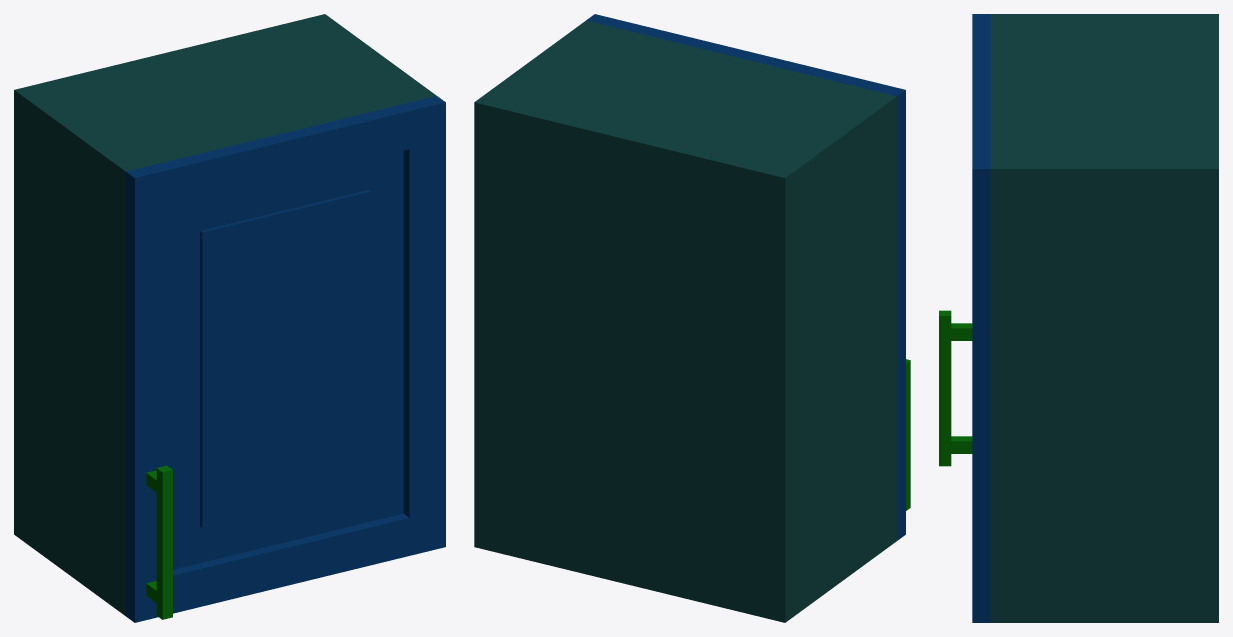
Rendered from CustomMeshCollision_Kitchen_Furniture_Cabinet.fbx.
3 renders of one model, left to right at view 1: azimuth 30°, elevation 25°; view 2: azimuth 150°, elevation 25°; view 3: azimuth 270°, elevation 25°, orthographic. The views are drawn at different scales.
Visible parts, largest first — view 1: Cabinet_MeshCollision; view 2: Cabinet_MeshCollision; view 3: Cabinet_MeshCollision.
Part boxes in pixels (bbox=[...]): Cabinet_MeshCollision: bbox=[14, 14, 445, 622]; Cabinet_MeshCollision: bbox=[474, 14, 910, 622]; Cabinet_MeshCollision: bbox=[939, 14, 1218, 622].
Bounding box in the file's own units: 60.01 × 82 × 45.78.
